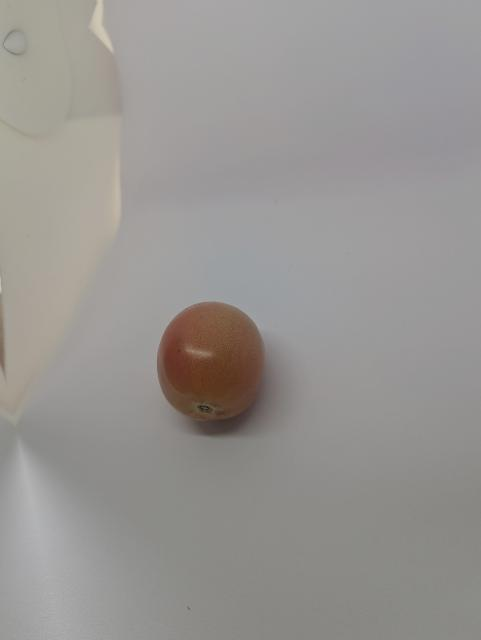turning: (156, 296, 271, 425)
